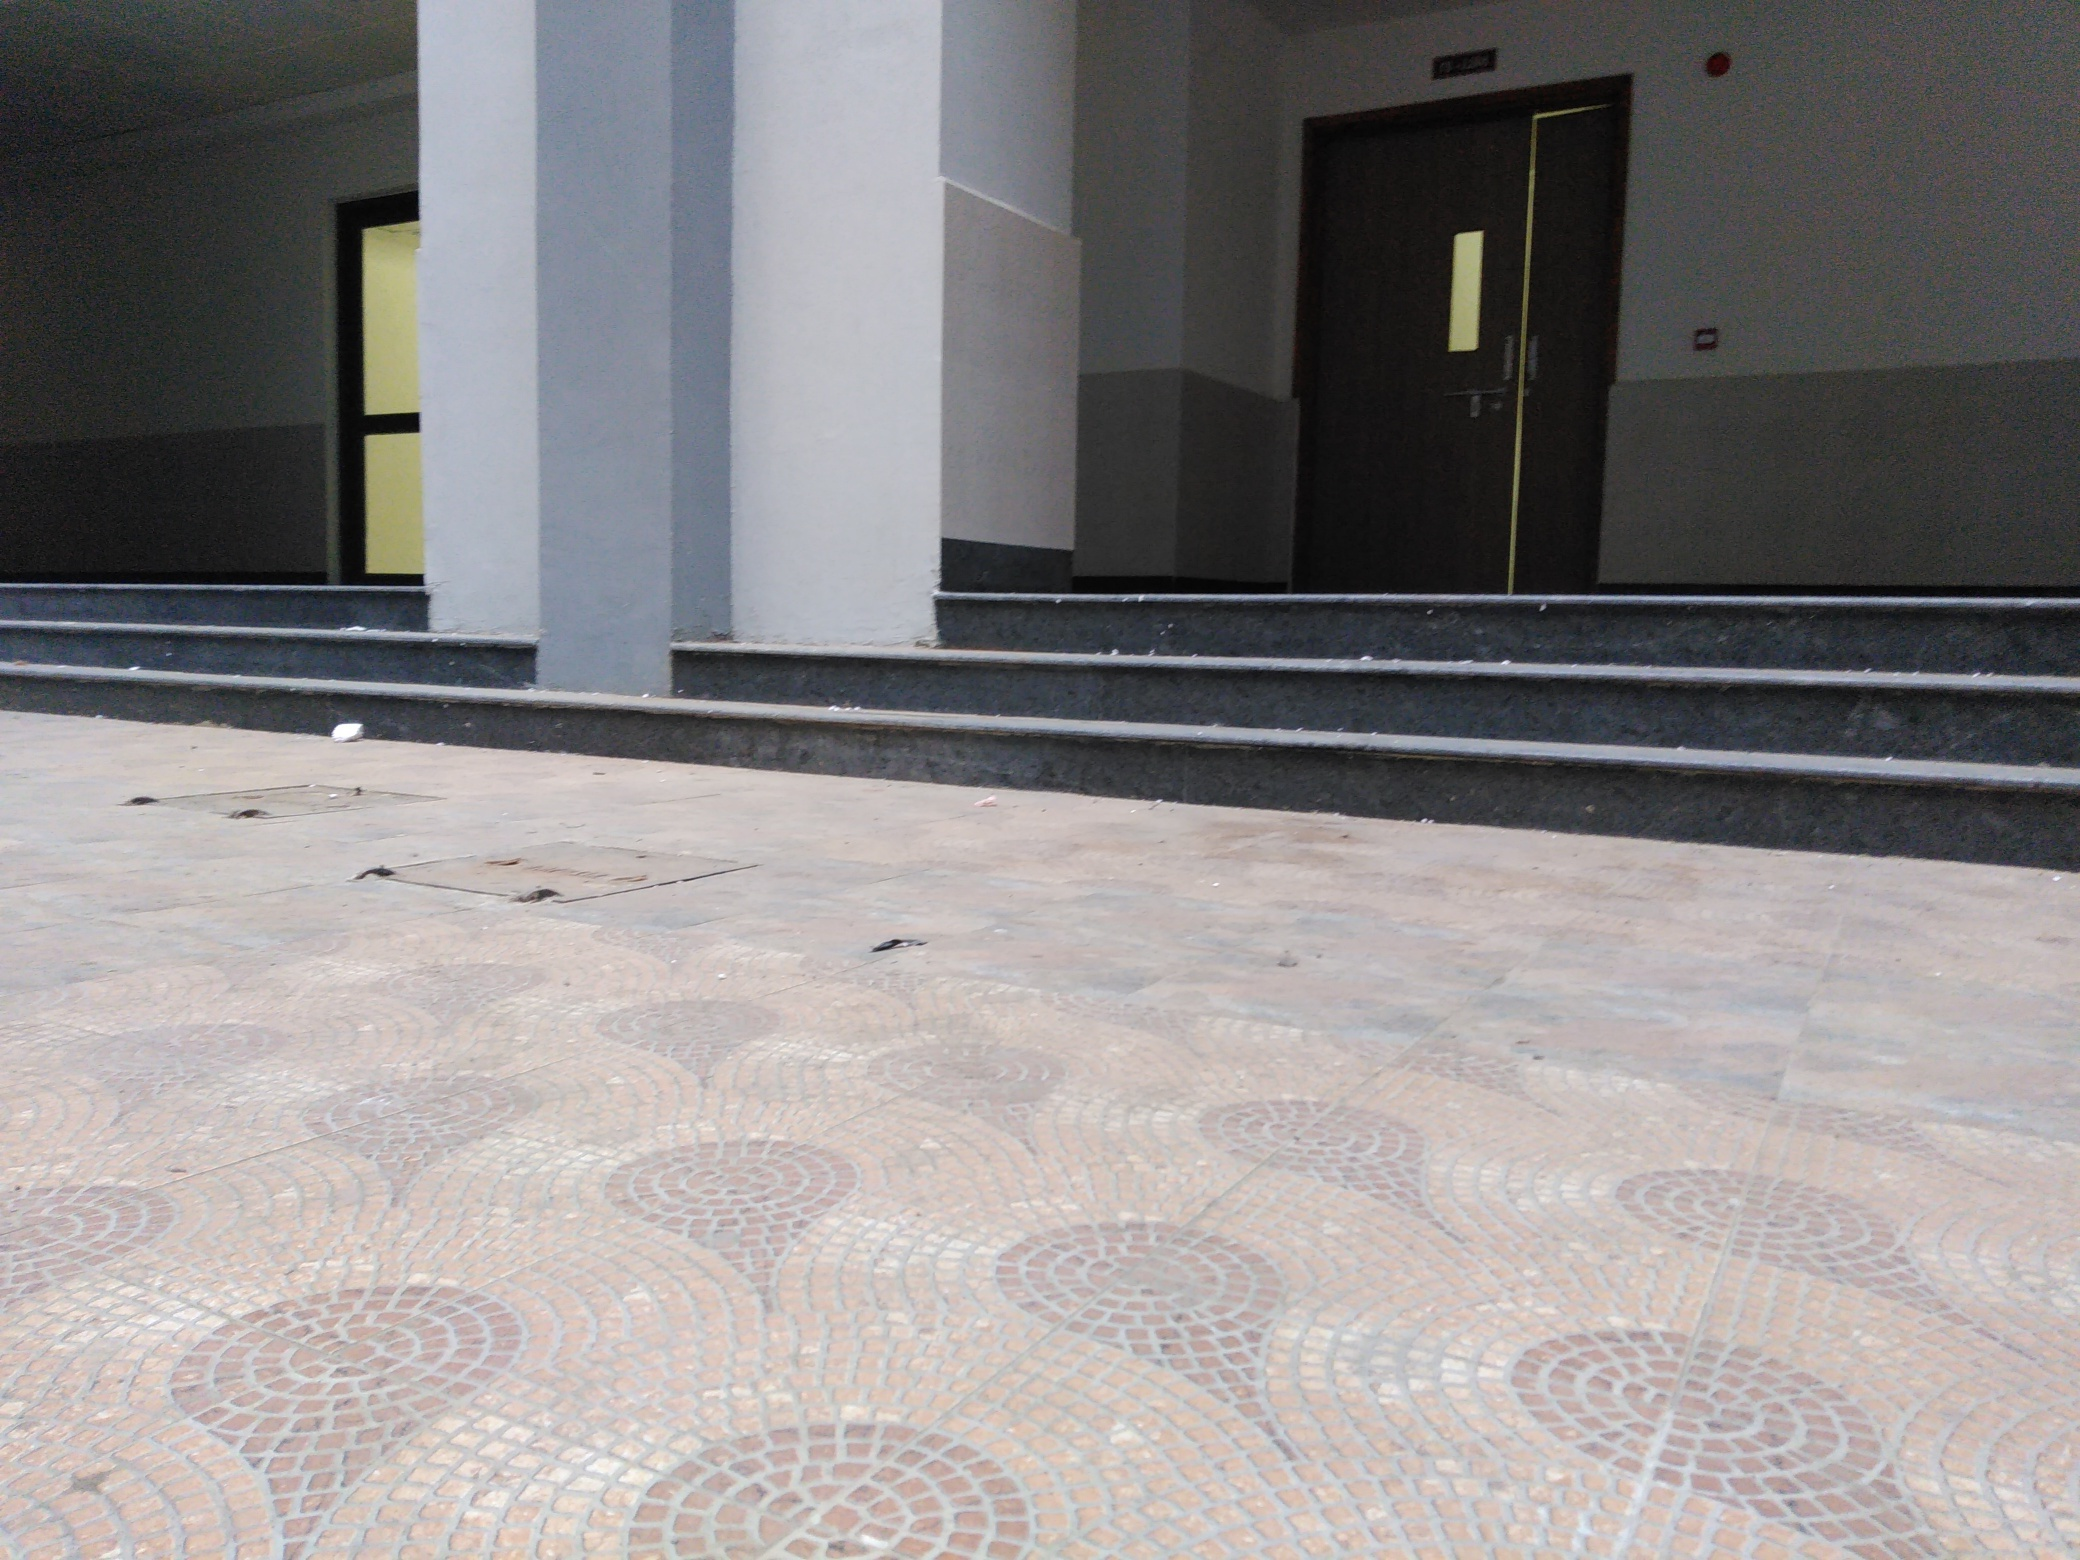stairs_up: (726, 593, 2070, 790), (3, 580, 437, 732)
